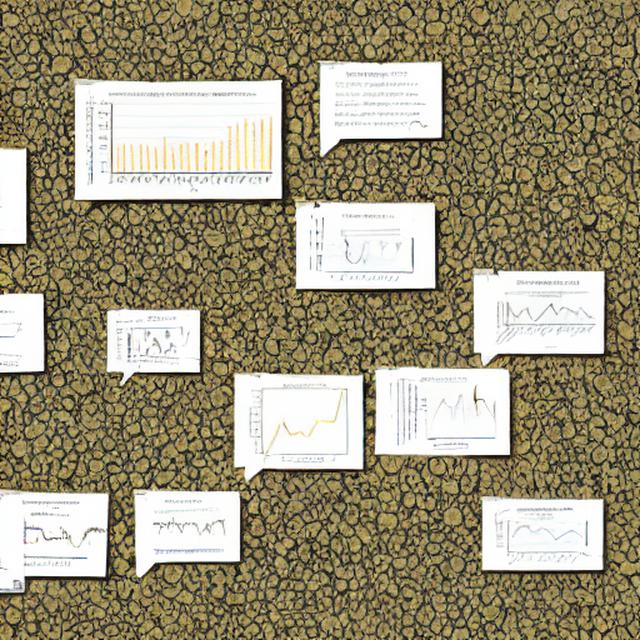Graph: (88, 88, 277, 196), (246, 378, 360, 464), (494, 289, 599, 351), (496, 516, 584, 568)
